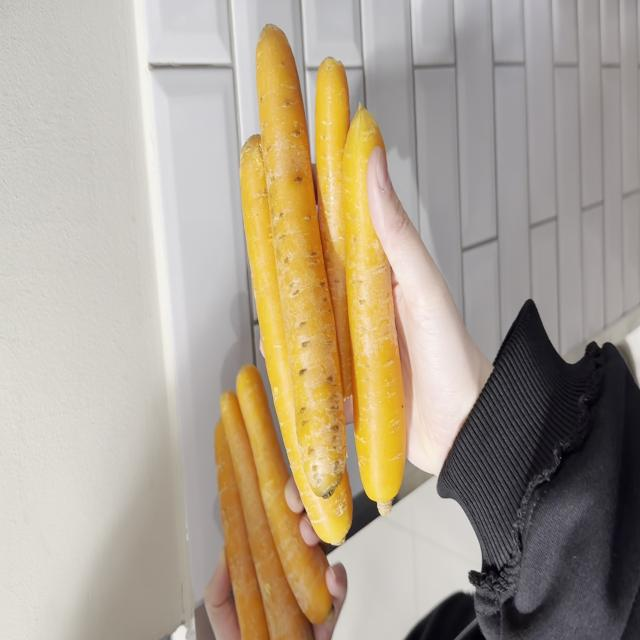carrot: (240, 137, 351, 543), (256, 24, 346, 499), (342, 106, 406, 503), (236, 364, 332, 622), (221, 390, 314, 639), (315, 57, 351, 397), (215, 421, 269, 640)
